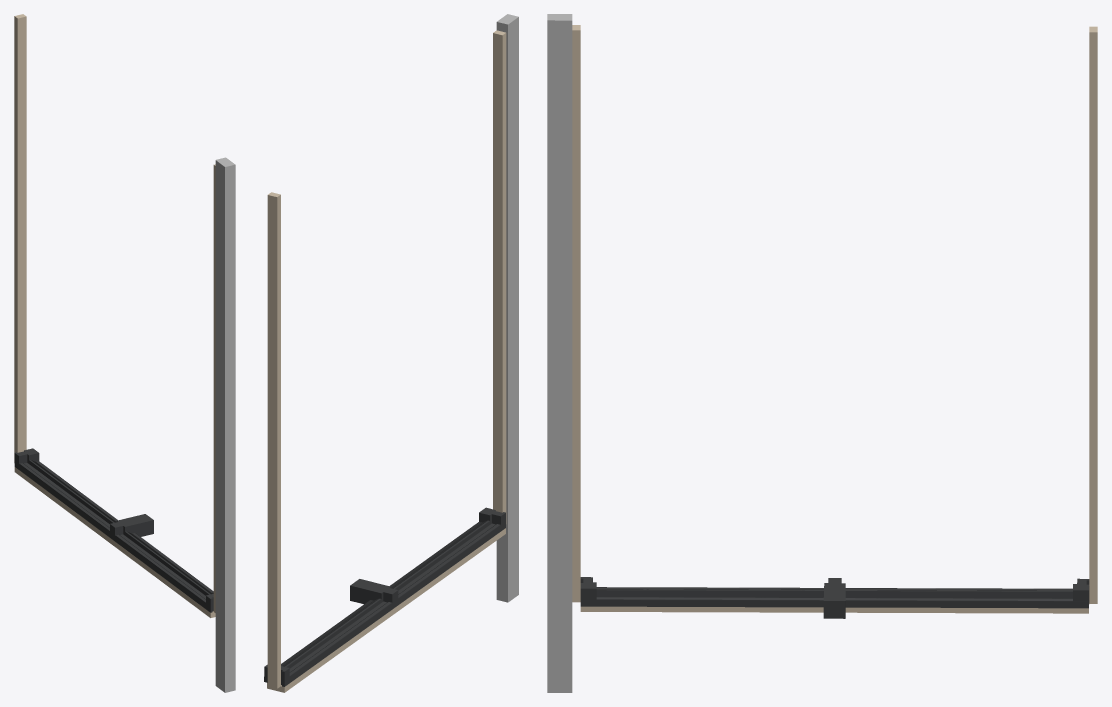
3 renders of one model, left to right at view 1: azimuth 30°, elevation 25°; view 2: azimuth 150°, elevation 25°; view 3: azimuth 270°, elevation 25°, orthographic. The views are drawn at different scales.
Size of the model in its own units: 0.2369 by 3.1 by 2.3.
